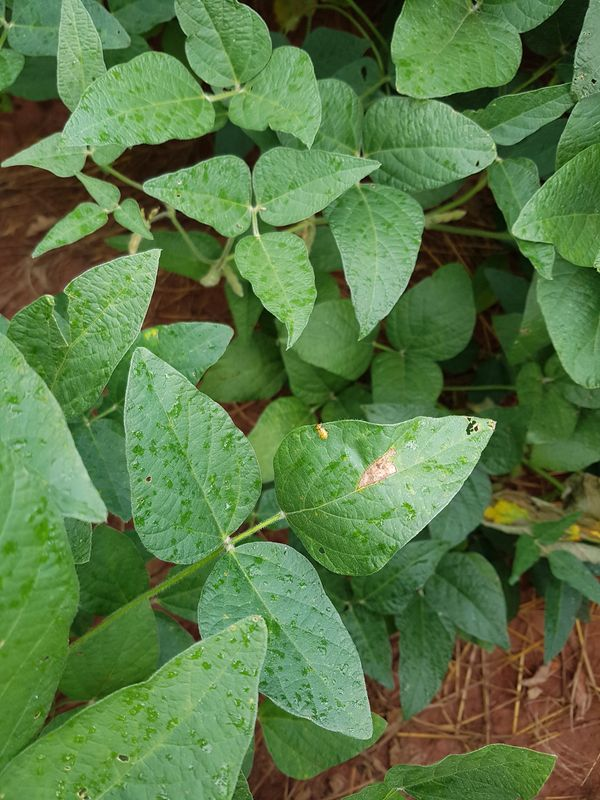Diabrotica_speciosa: (308, 420, 333, 446)
